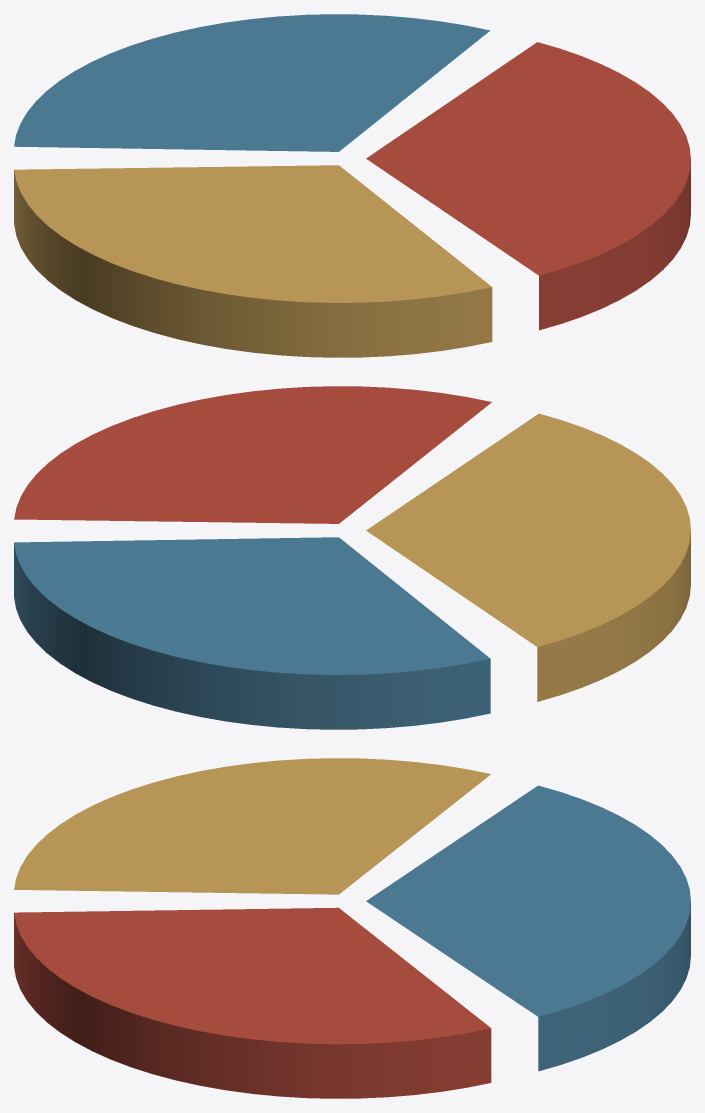
File: wp-disque-de-fractions-en-tiers.glb
3 views of the same model, one above another, from view 1: azimuth 30°, elevation 25°; view 2: azimuth 150°, elevation 25°; view 3: azimuth 270°, elevation 25° (orthographic).
Visible parts, largest first — view 1: fraction-1-3 (×3); view 2: fraction-1-3 (×3); view 3: fraction-1-3 (×3).
Part boxes in pixels (left/top/right/bottom): fraction-1-3 (×3): left=14, top=14, right=690, bottom=357; fraction-1-3 (×3): left=14, top=386, right=690, bottom=729; fraction-1-3 (×3): left=14, top=758, right=690, bottom=1098.
Bounding box in the file's own units: 0.45 × 0.04 × 0.45.
